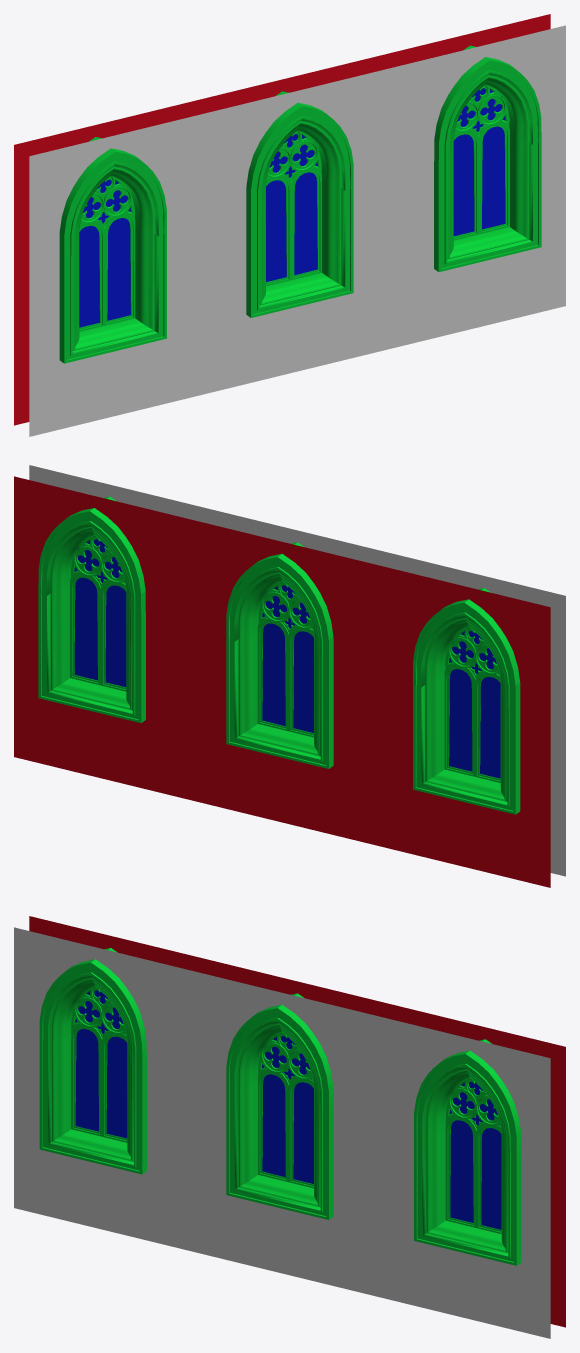
File: Wall_Windows_2.fbx
The picture shows the model from 3 angles, top to bottom: view 1: azimuth 30°, elevation 25°; view 2: azimuth 150°, elevation 25°; view 3: azimuth 330°, elevation 25°; orthographic projection.
Visible parts, largest first — view 1: Windows_3.001, Windows_3.002; view 2: Windows_3.001, Windows_3.002; view 3: Windows_3.001, Windows_3.002.
Boxes of the visible parts, x1,y1,x2,y2 form: Windows_3.001: [14, 14, 565, 436]; Windows_3.002: [79, 88, 505, 327]; Windows_3.001: [14, 465, 565, 887]; Windows_3.002: [74, 539, 500, 778]; Windows_3.001: [14, 916, 565, 1338]; Windows_3.002: [75, 990, 501, 1229].
Bounding box in the file's own units: 1000 × 500 × 79.94.
